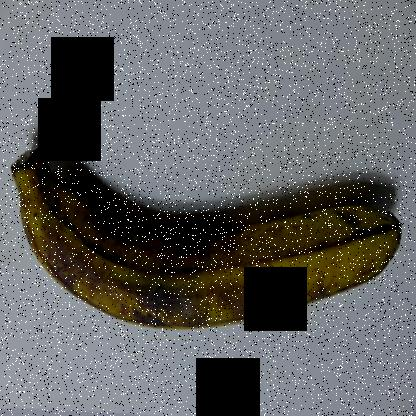overripe: (1, 122, 412, 344)
